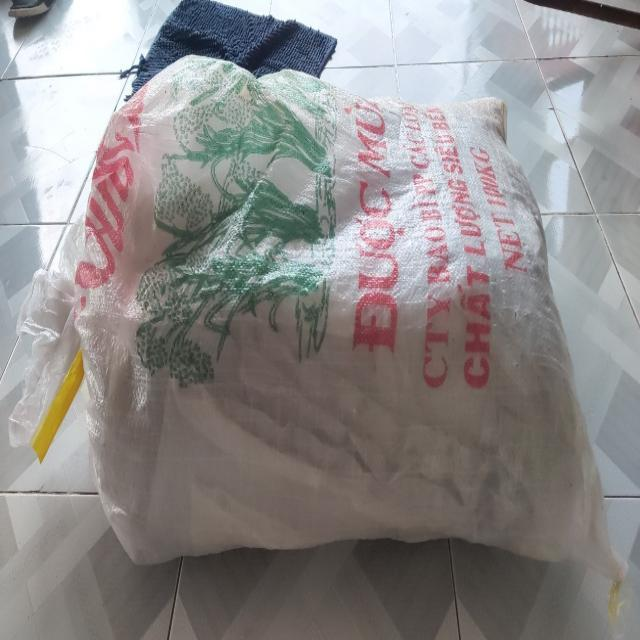gunny_bag: (8, 55, 626, 581)
